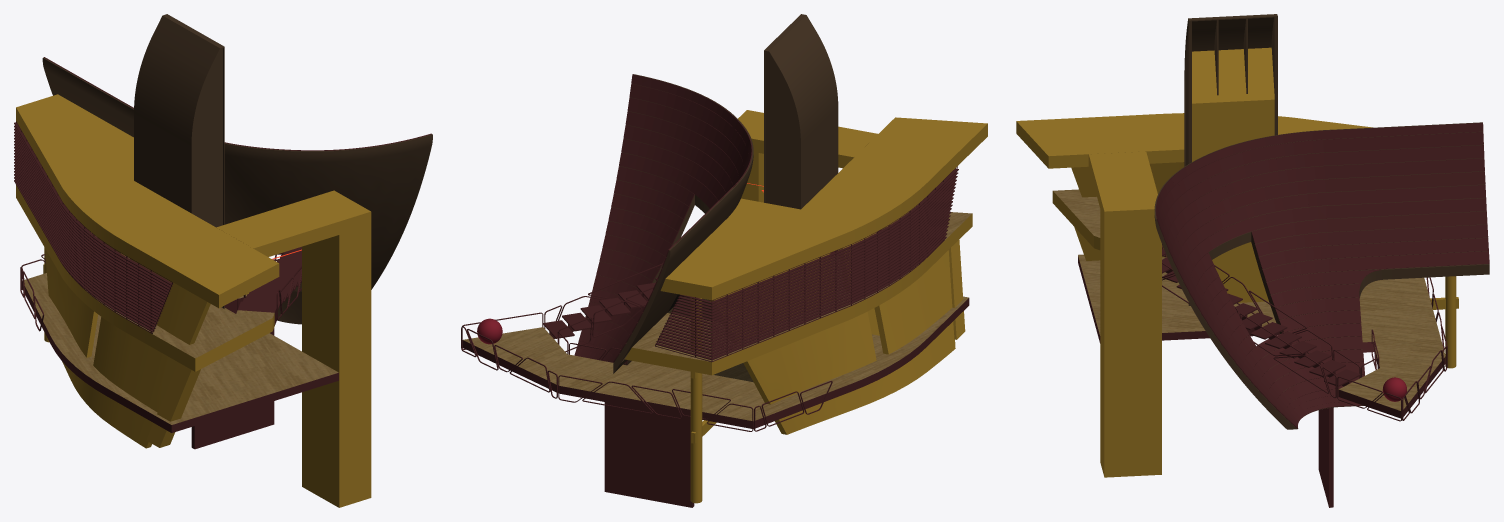
The model's file is mathare.glb.
The picture shows the model from 3 angles, left to right: view 1: azimuth 30°, elevation 25°; view 2: azimuth 150°, elevation 25°; view 3: azimuth 270°, elevation 25°; orthographic projection. The views are drawn at different scales.
Visible parts, largest first — view 1: MATHARE, Box023, Line022, Arc017, Group016, Shape002, Box029, Line020, StraightStair001, Group017; view 2: MATHARE, Line022, Shape002, Group016, Arc017, Line020, Box029, Box023, StraightStair001, Cylinder001, Group017; view 3: MATHARE, Box023, Group016, Line022, Arc017, StraightStair001, Box029, Cylinder001, Line020.
Part boxes in pixels (left/top/right/bottom): MATHARE: left=20, top=57, right=431, bottom=449; Box023: left=216, top=190, right=371, bottom=507; Line022: left=16, top=94, right=279, bottom=308; Arc017: left=42, top=57, right=432, bottom=324; Group016: left=134, top=14, right=224, bottom=308; Shape002: left=14, top=122, right=172, bottom=331; Box029: left=192, top=48, right=222, bottom=307; Line020: left=16, top=185, right=274, bottom=371; StraightStair001: left=238, top=246, right=301, bottom=325; Group017: left=16, top=121, right=172, bottom=333; MATHARE: left=461, top=74, right=971, bottom=507; Line022: left=660, top=117, right=987, bottom=300; Shape002: left=655, top=168, right=958, bottom=360; Group016: left=764, top=14, right=838, bottom=209; Arc017: left=590, top=74, right=753, bottom=373; Line020: left=625, top=213, right=972, bottom=375; Box029: left=765, top=52, right=799, bottom=209; Box023: left=738, top=110, right=877, bottom=202; StraightStair001: left=543, top=277, right=657, bottom=339; Cylinder001: left=690, top=298, right=702, bottom=503; Group017: left=655, top=166, right=957, bottom=362; MATHARE: left=1053, top=122, right=1489, bottom=507; Box023: left=1088, top=151, right=1161, bottom=477; Group016: left=1184, top=14, right=1277, bottom=305; Line022: left=1016, top=113, right=1372, bottom=168; Arc017: left=1154, top=122, right=1489, bottom=429; StraightStair001: left=1162, top=249, right=1360, bottom=386; Box029: left=1186, top=17, right=1274, bottom=165; Cylinder001: left=1445, top=276, right=1456, bottom=368; Line020: left=1052, top=191, right=1100, bottom=250.
Size of the model in its own units: 13.97 by 17.21 by 17.15.
8 materials, 1 textured.
